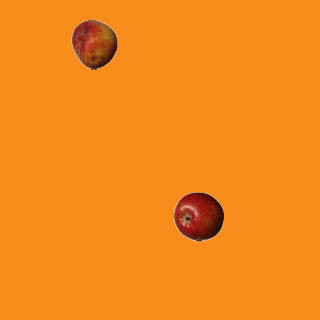Apple Braeburn: (173, 191, 223, 241)
Peach: (69, 19, 119, 69)
